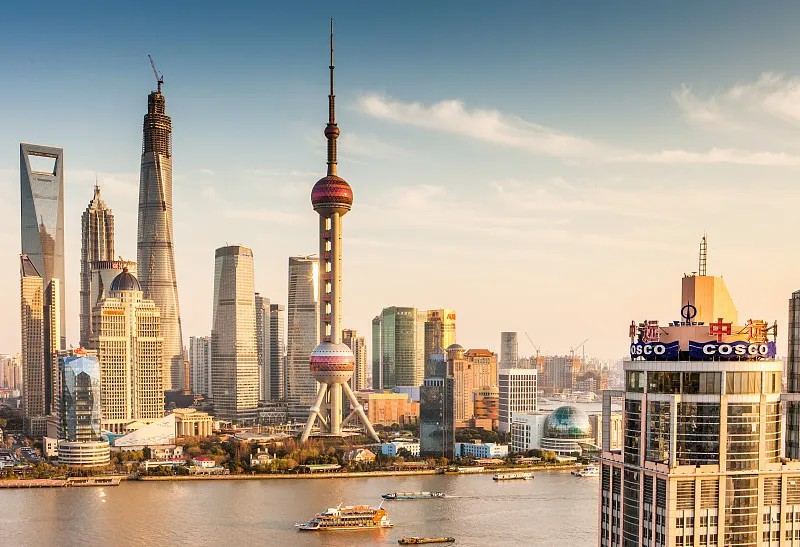Oriental: (301, 17, 379, 443)
